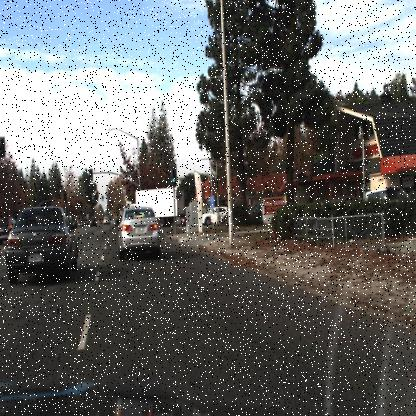car: (0, 198, 78, 299), (112, 202, 166, 268), (116, 205, 164, 261), (204, 199, 240, 225), (86, 212, 100, 232)
trafficLight-Green: (167, 169, 178, 193), (85, 162, 93, 186)
truck: (118, 170, 194, 220)
